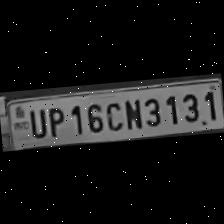1: (64, 101, 85, 135), (198, 86, 218, 120), (160, 92, 180, 124)
3: (140, 92, 162, 127), (178, 90, 200, 124)
6: (82, 98, 104, 133)
C: (102, 97, 124, 131)
N: (120, 95, 142, 130)
P: (43, 102, 66, 138)
U: (24, 104, 46, 138)
